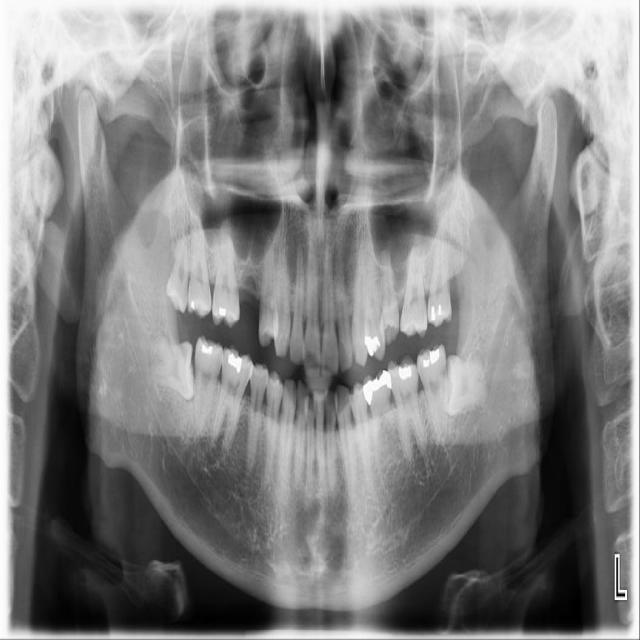3M ESPE Implant: (164, 226, 195, 314)
52: (383, 352, 430, 411), (412, 342, 453, 387), (221, 345, 254, 391), (195, 333, 224, 376), (425, 285, 454, 328), (361, 318, 388, 364), (363, 368, 391, 410), (211, 292, 241, 329), (186, 282, 214, 319)
73: (613, 560, 622, 576)
BioHorizons Implant: (426, 217, 452, 328)
Biomet 3i Implant: (436, 348, 492, 419)
Blue Sky Bio Implant: (415, 342, 452, 449)
Caries: (186, 215, 217, 319)
Implant: (180, 333, 227, 438)
Keystone Dental Implant: (149, 340, 196, 403)
